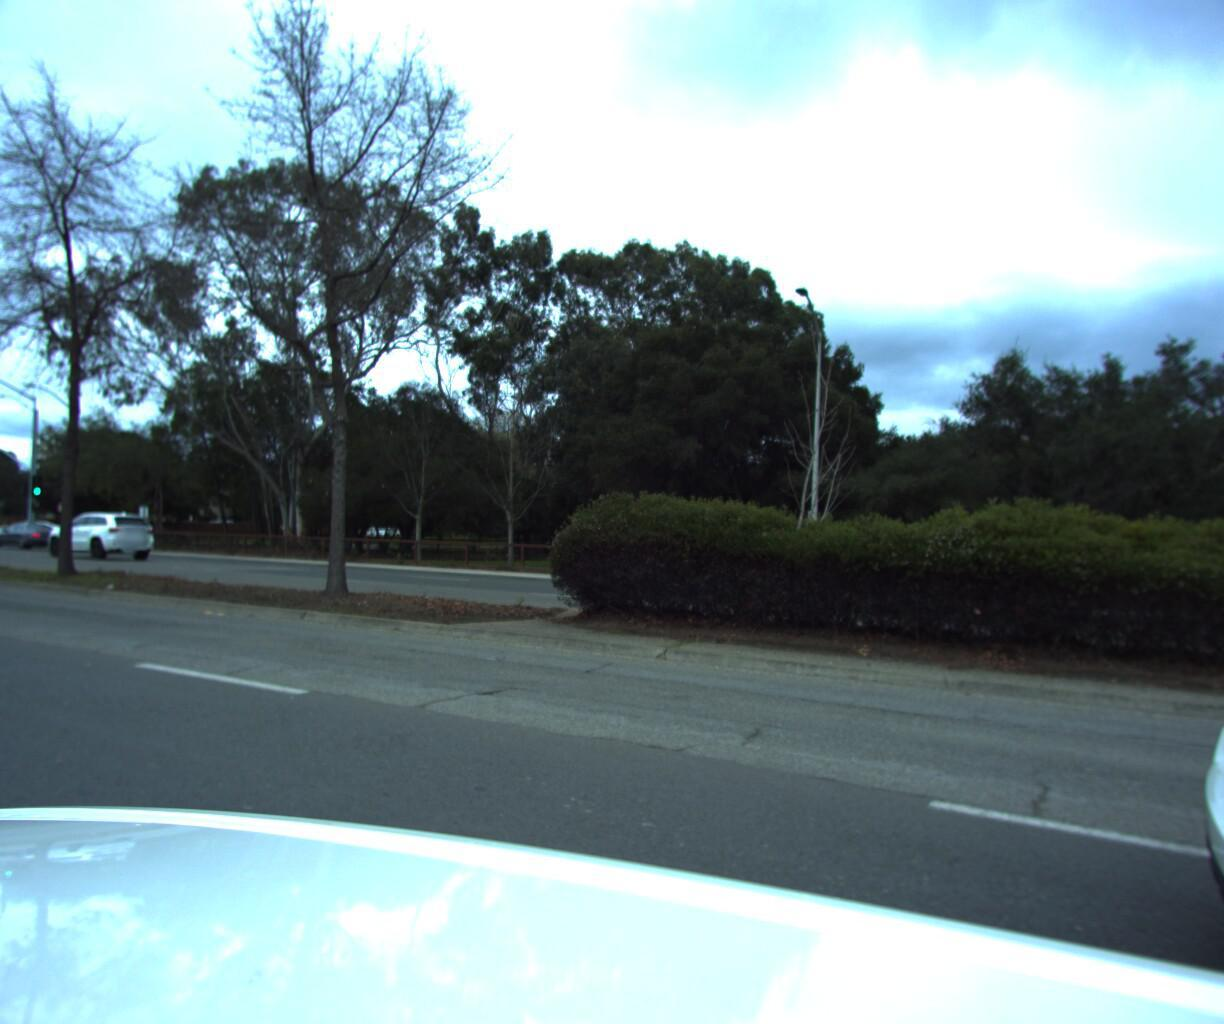car: (34, 506, 160, 556), (0, 515, 76, 547)
